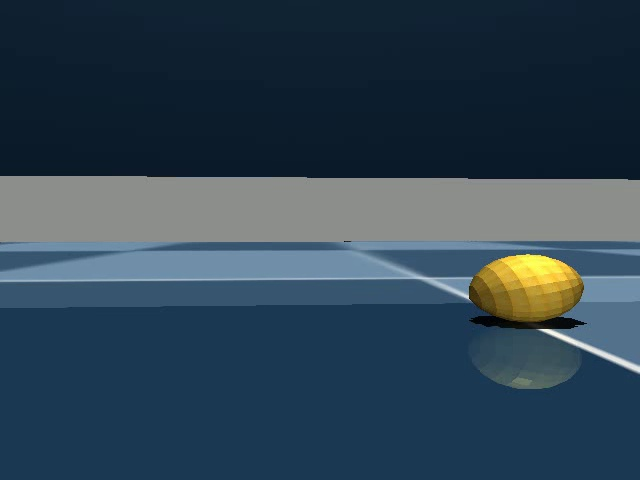lemon: (462, 247, 589, 332)
